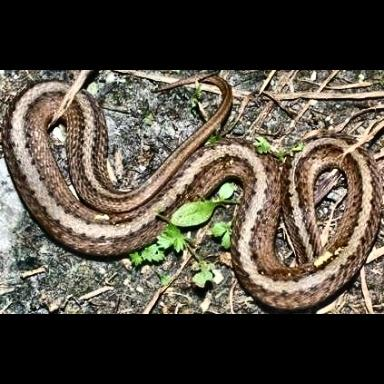snake: (7, 71, 384, 313)
